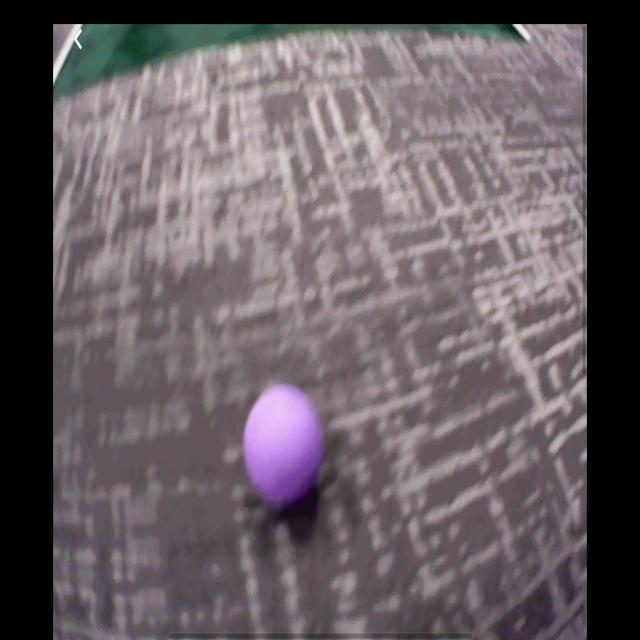ball: (243, 386, 323, 506)
